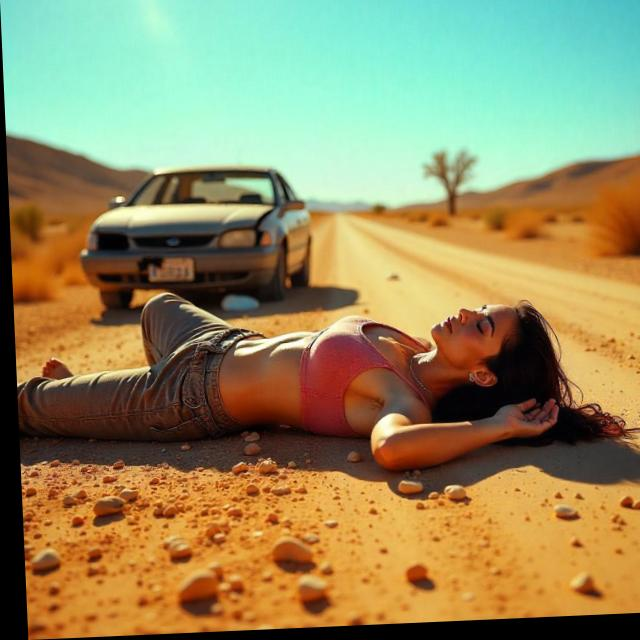injury: (426, 299, 612, 437)
no injury: (19, 260, 640, 495)
